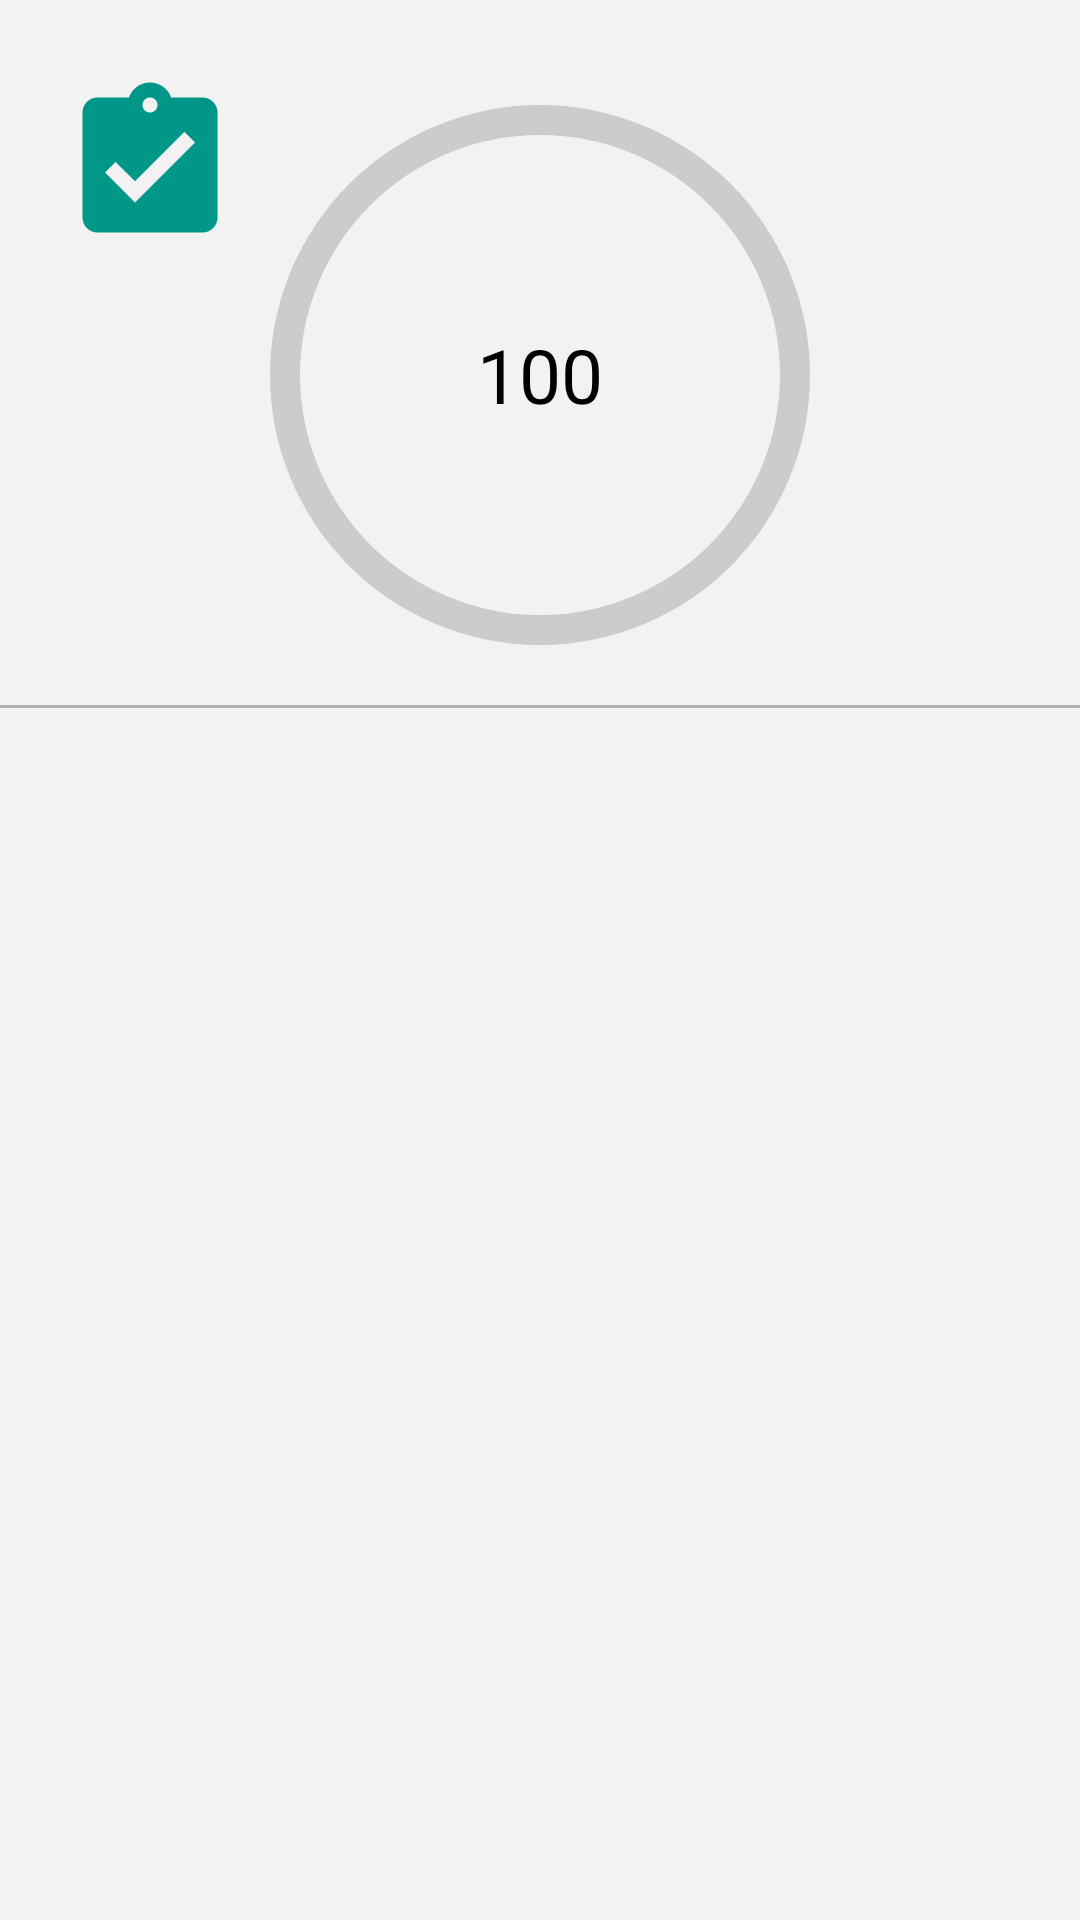

Where icons sit on this 1080px×1920px app screen, as (x1,y1,x2,y2):
assignment turned in: (82,82,218,233)
